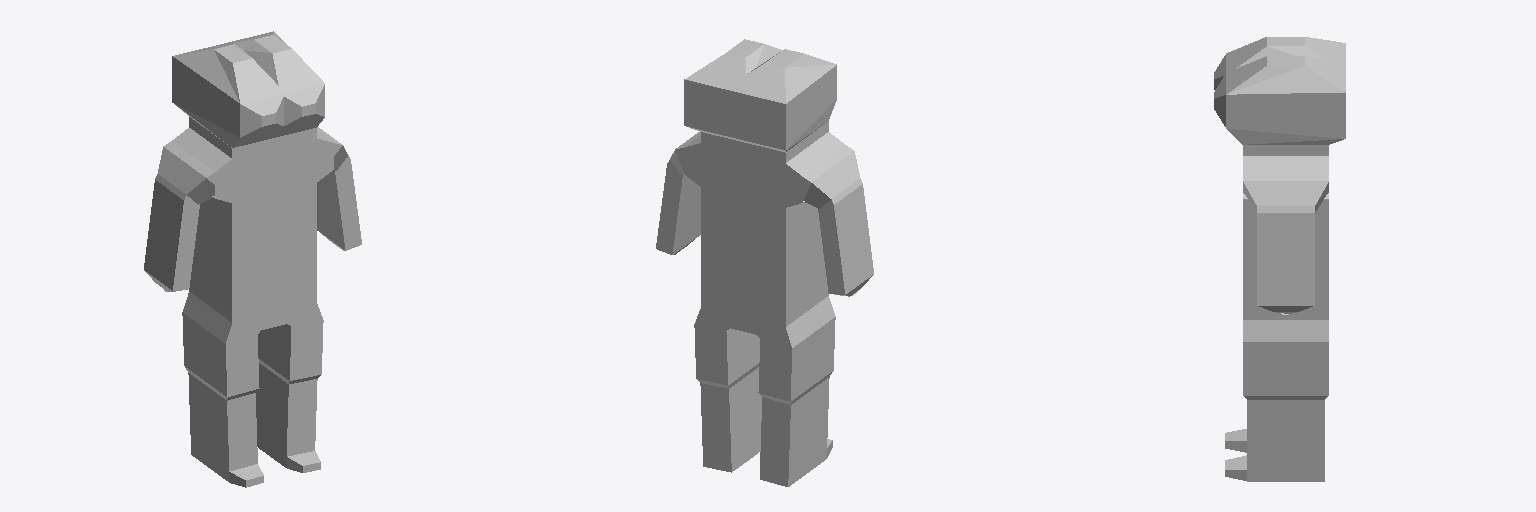
File: monster2.obj
The picture shows the model from 3 angles: view 1: azimuth 30°, elevation 25°; view 2: azimuth 150°, elevation 25°; view 3: azimuth 270°, elevation 25°; orthographic projection.
Parts seen in each view (by area): view 1: Cube; view 2: Cube; view 3: Cube.
Boxes of the visible parts, x1=… form: Cube: x1=144, y1=31, x2=361, y2=487; Cube: x1=656, y1=39, x2=873, y2=486; Cube: x1=1214, y1=37, x2=1345, y2=481.
Bounding box in the file's own units: 4.77 × 9.86 × 2.87.